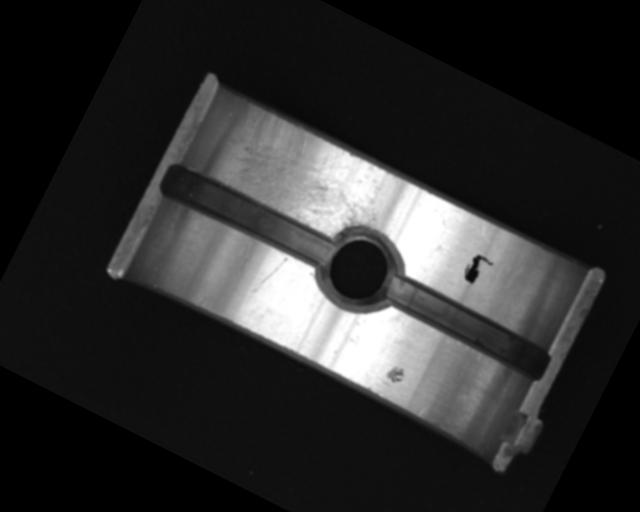blot: (459, 250, 495, 290)
bruise: (383, 362, 409, 386)
gap: (155, 156, 341, 277), (378, 269, 554, 382)
hole: (309, 215, 413, 322)
nick: (252, 249, 289, 299)
scratch: (205, 97, 401, 252)
